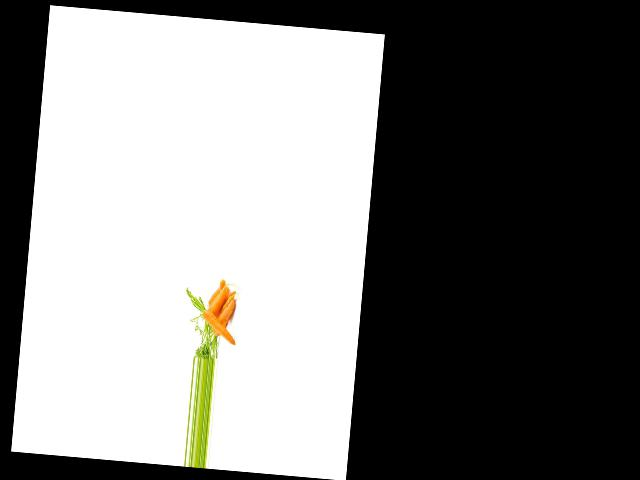carrot: (212, 292, 235, 339)
